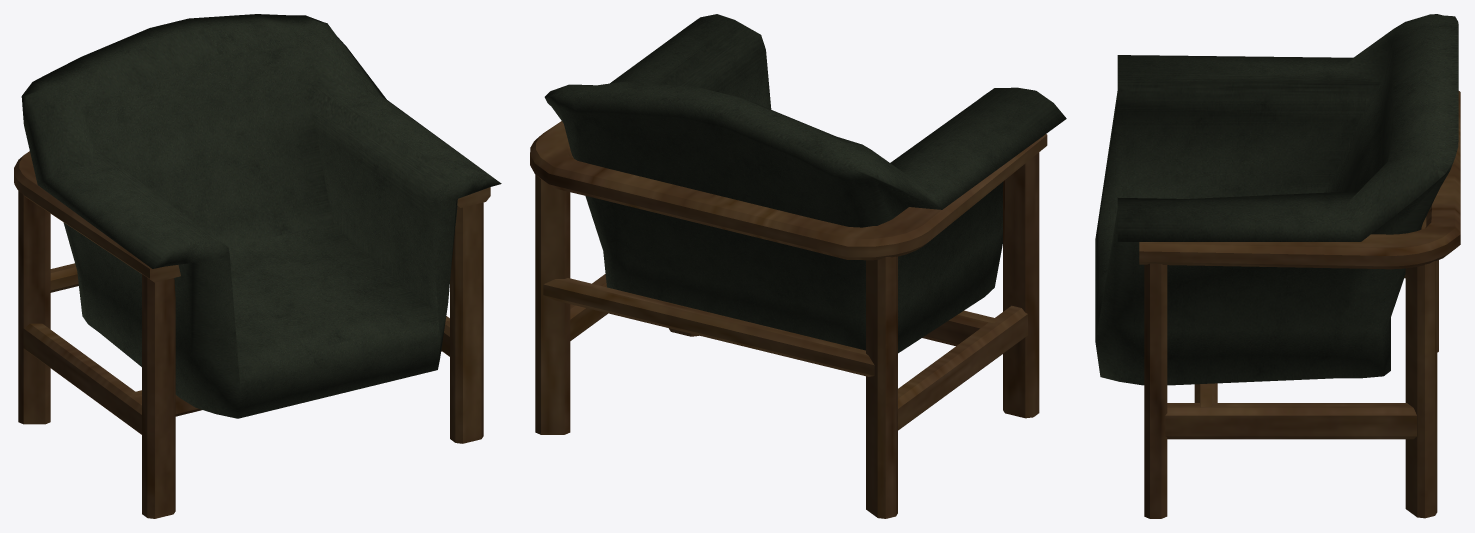
Rendered from LC_3006_ChairB_LOD2.FBX.
3 renders of one model, left to right at view 1: azimuth 30°, elevation 25°; view 2: azimuth 150°, elevation 25°; view 3: azimuth 270°, elevation 25°, orthographic. The views are drawn at different scales.
Parts seen in each view (by area): view 1: LC_3006_ChairB_LOD2; view 2: LC_3006_ChairB_LOD2; view 3: LC_3006_ChairB_LOD2.
Part boxes in pixels (box(x1,y1,x2,y2)): LC_3006_ChairB_LOD2: box(14, 14, 501, 518); LC_3006_ChairB_LOD2: box(530, 14, 1066, 518); LC_3006_ChairB_LOD2: box(1095, 14, 1460, 518).
Size of the model in its own units: 76.43 by 71.19 by 63.5.
Materials: 1 (1 with a texture image).
